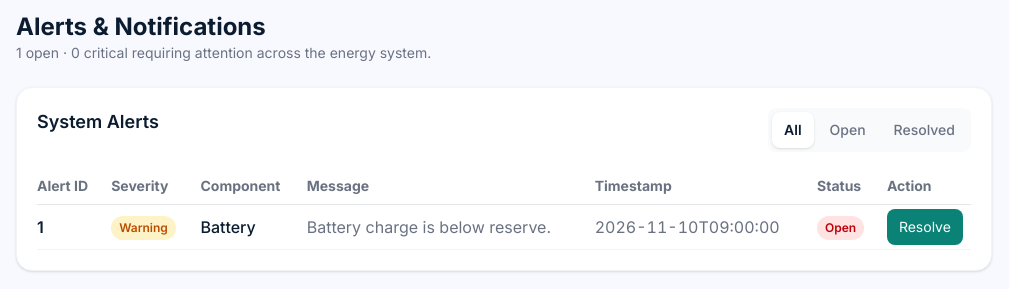
Test: AlertsNotifications › loads the alerts again after resolving one and shows the new status
Expected: the text "Battery" is shown, [200,205,307,250]
Expected: the text "Open" is shown, [817,216,864,240]
Click the button "Resolve" at (925, 227), box [887,209,963,245]
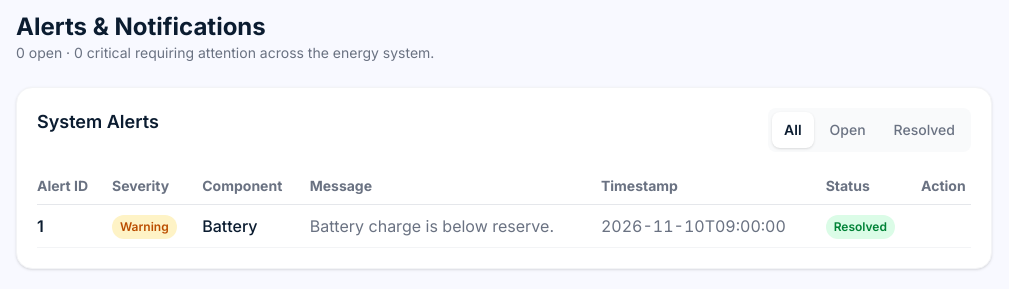
Now the text "Resolved" is shown, box [826,215,895,239]
